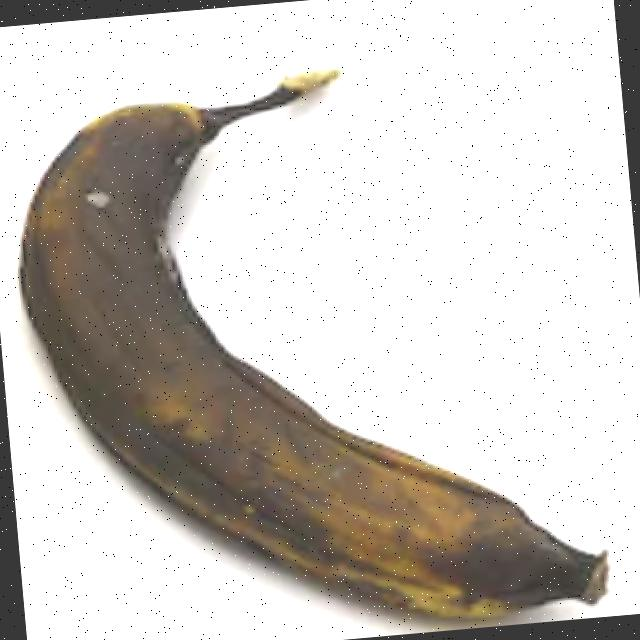Rotten: (0, 17, 632, 640)
